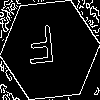F: (25, 25, 57, 74)
